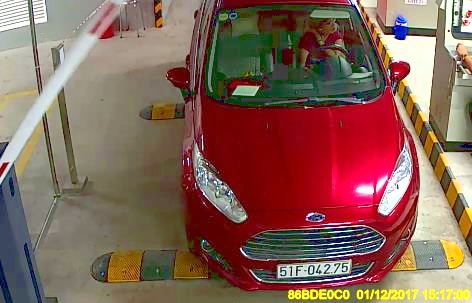plate: (274, 260, 352, 278)
